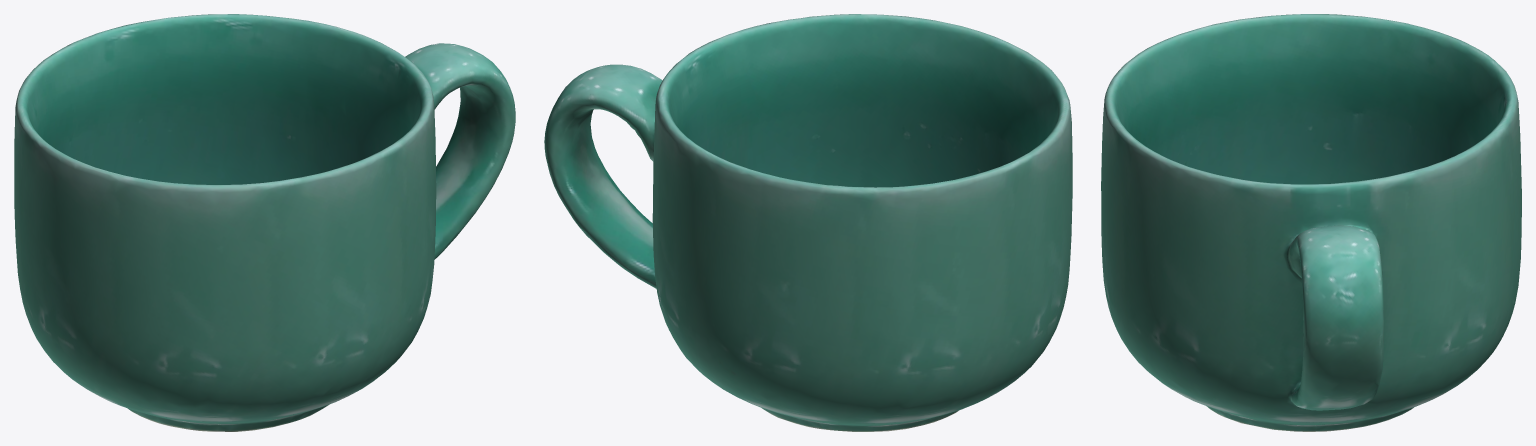
Rendered from Cole_Hardware_Mug_Classic_Blue.glb.
3 renders of one model, left to right at view 1: azimuth 30°, elevation 25°; view 2: azimuth 150°, elevation 25°; view 3: azimuth 270°, elevation 25°, orthographic.
Visible parts, largest first — view 1: Cole_Hardware_Mug_Classic_Blue; view 2: Cole_Hardware_Mug_Classic_Blue; view 3: Cole_Hardware_Mug_Classic_Blue.
Part boxes in pixels (x1,y1,x2,y2): Cole_Hardware_Mug_Classic_Blue: (14,14,515,431); Cole_Hardware_Mug_Classic_Blue: (544,14,1072,431); Cole_Hardware_Mug_Classic_Blue: (1101,14,1521,431).
Bounding box in the file's own units: 0.1657 × 0.0948 × 0.1255.
1 material, 1 textured.
